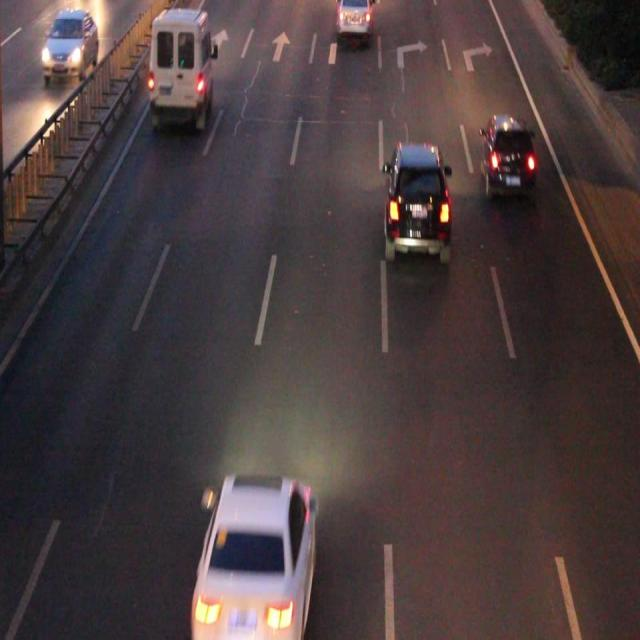car: (192, 477, 312, 640), (386, 146, 448, 256), (482, 116, 534, 198), (337, 1, 370, 37)
truck: (151, 8, 212, 126)
